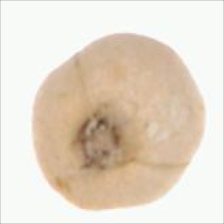L4: (31, 32, 206, 210)
